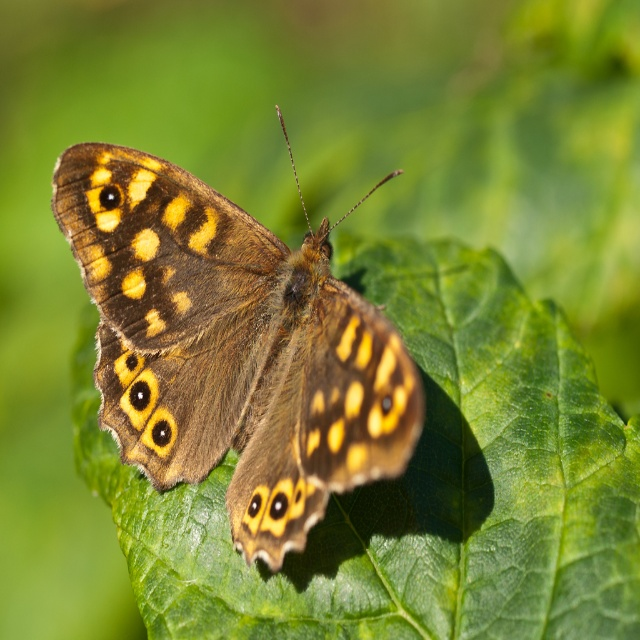Butterfly: (50, 103, 424, 570)
